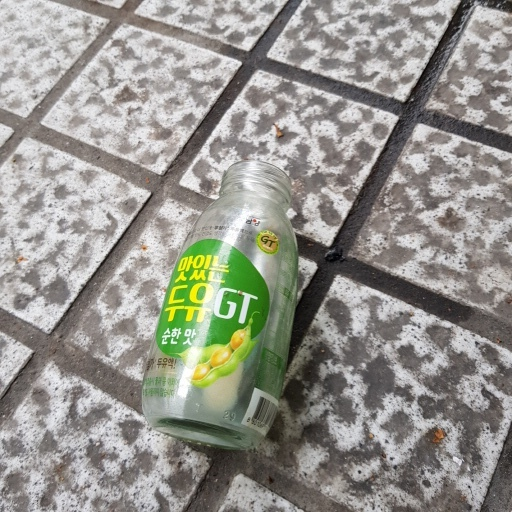Glass_4: (136, 160, 300, 451)
